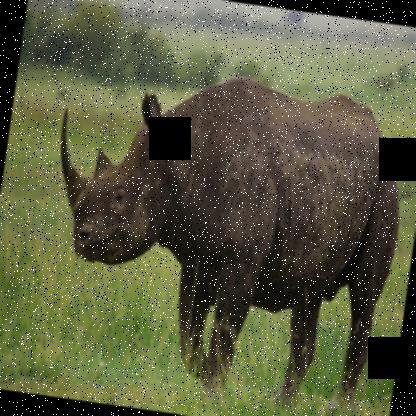Diceros bicornis: (25, 50, 415, 415)
